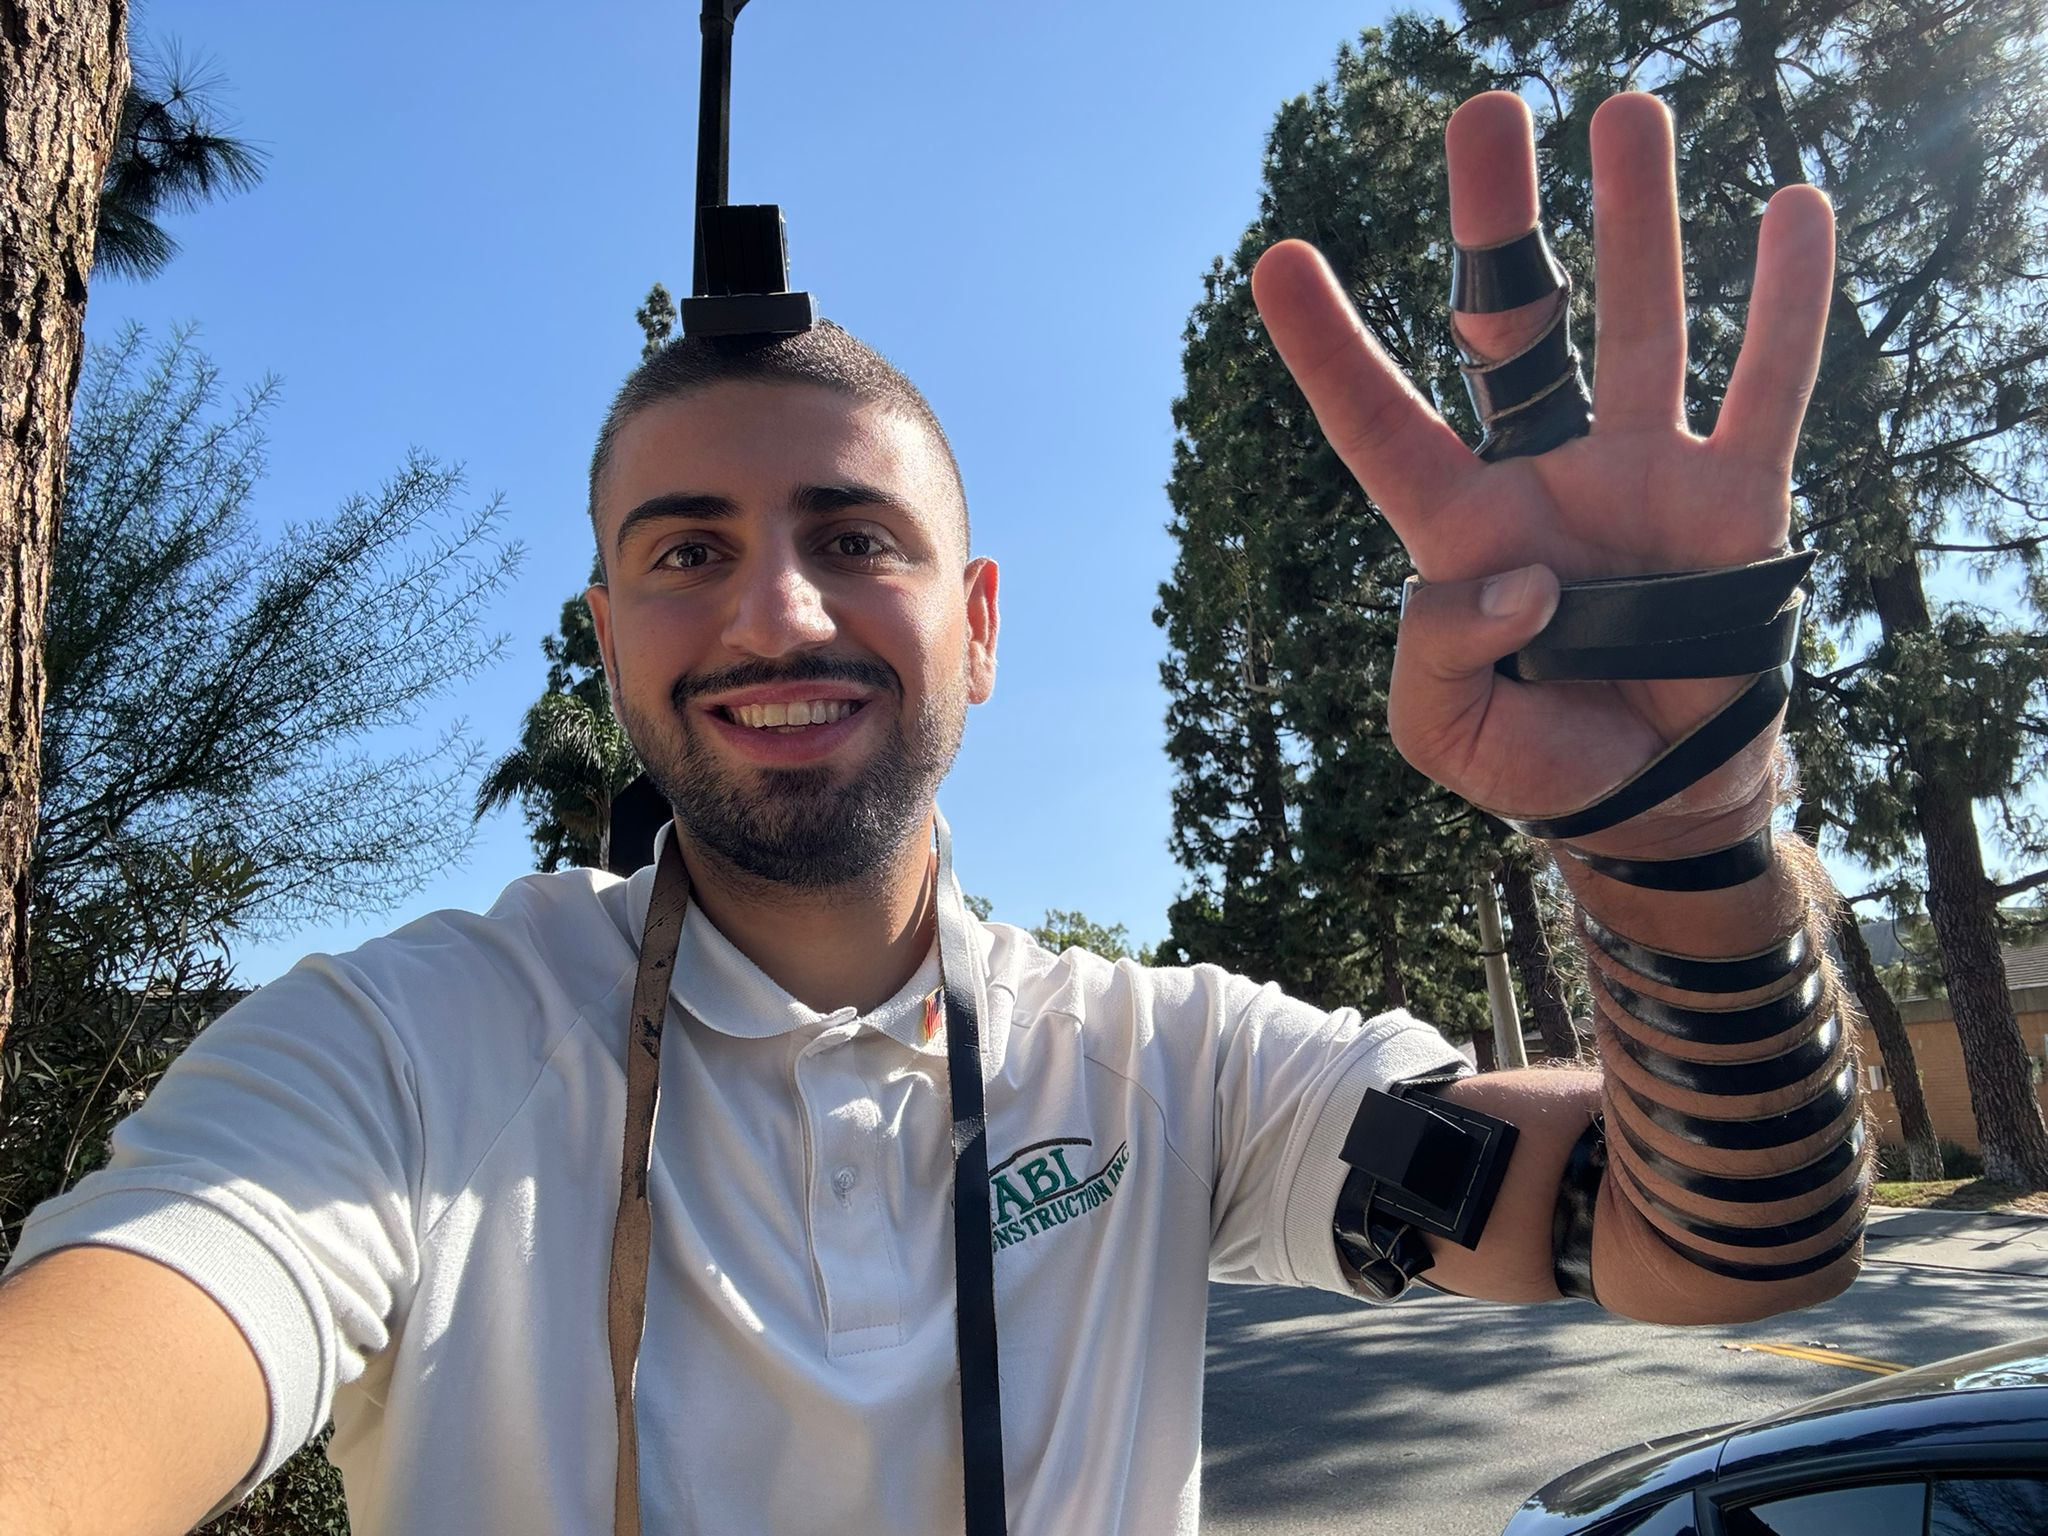tefillin: (1342, 1083, 1519, 1254), (679, 205, 816, 337)
